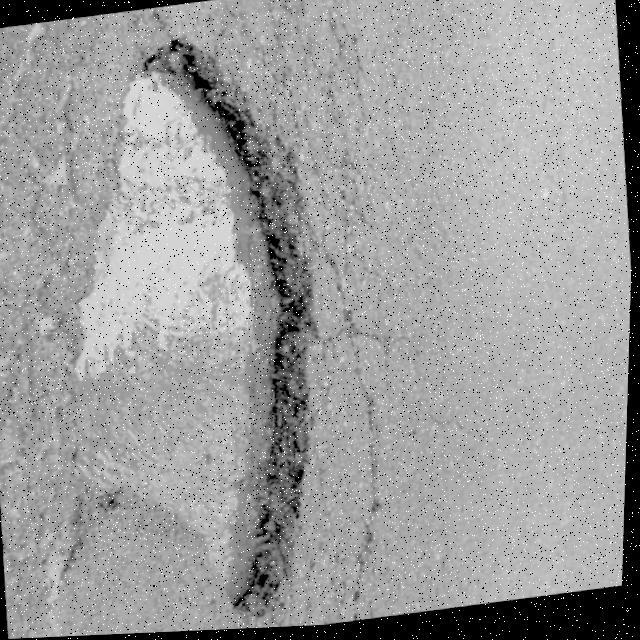pothole: (26, 24, 350, 638)
